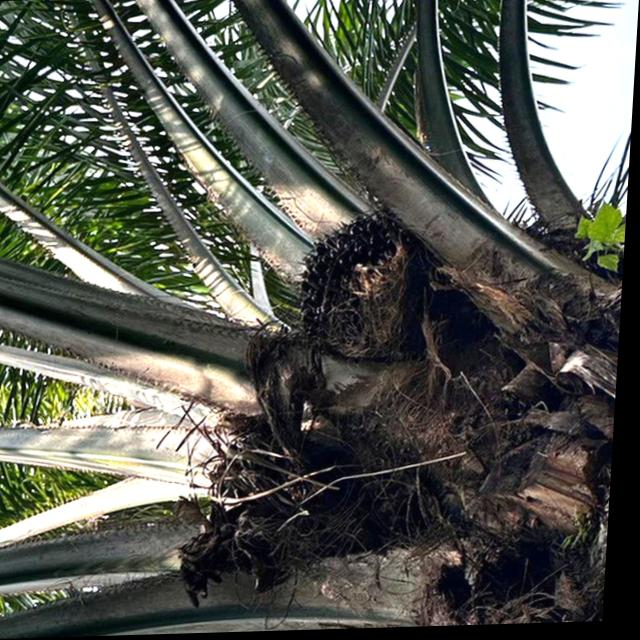almost: (290, 197, 419, 367)
